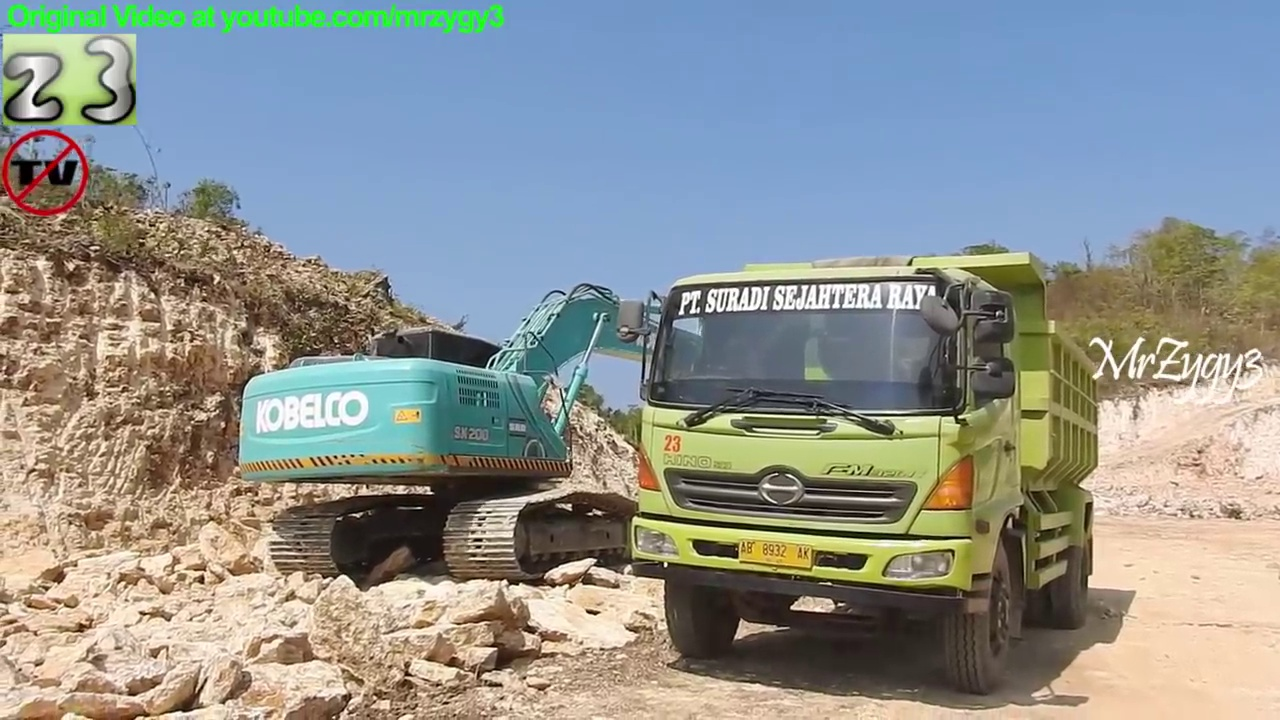excavator: (231, 274, 919, 598)
truck: (613, 245, 1113, 699)
